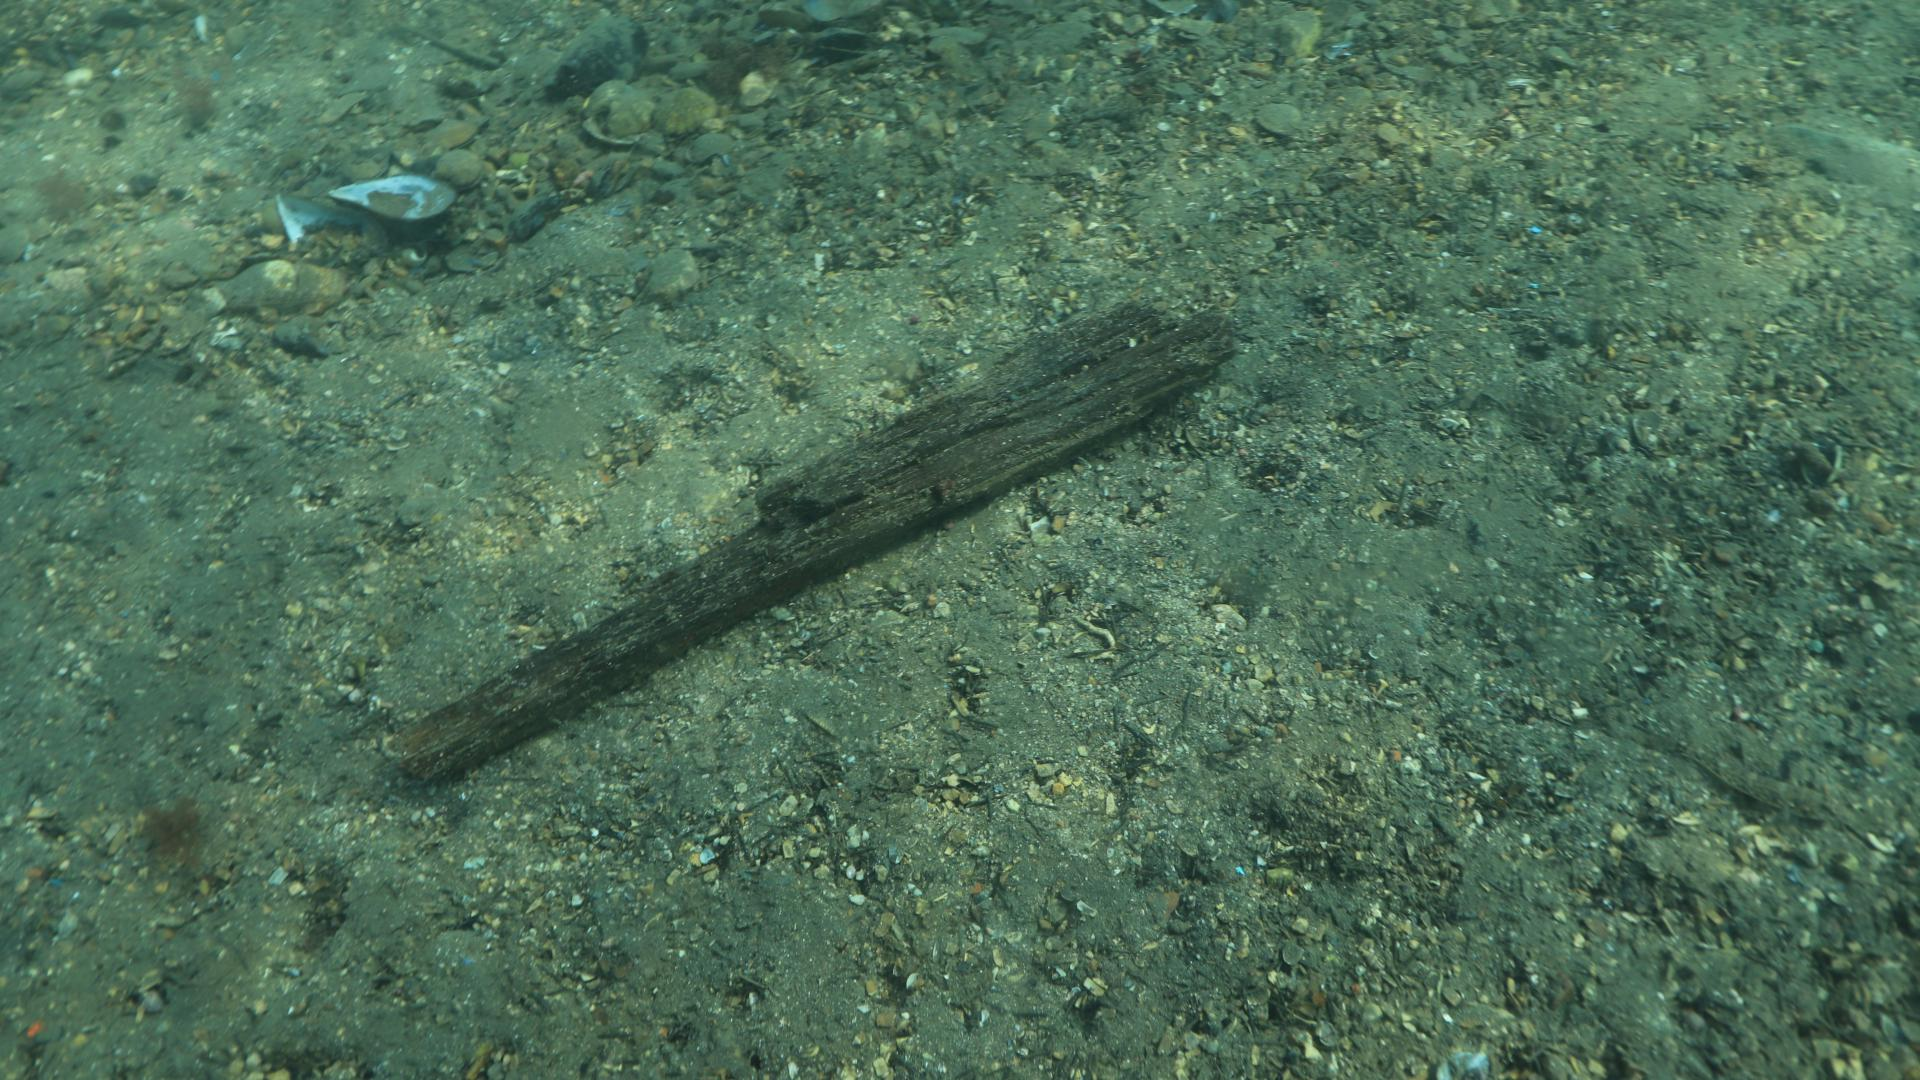wood: (392, 295, 1241, 781)
